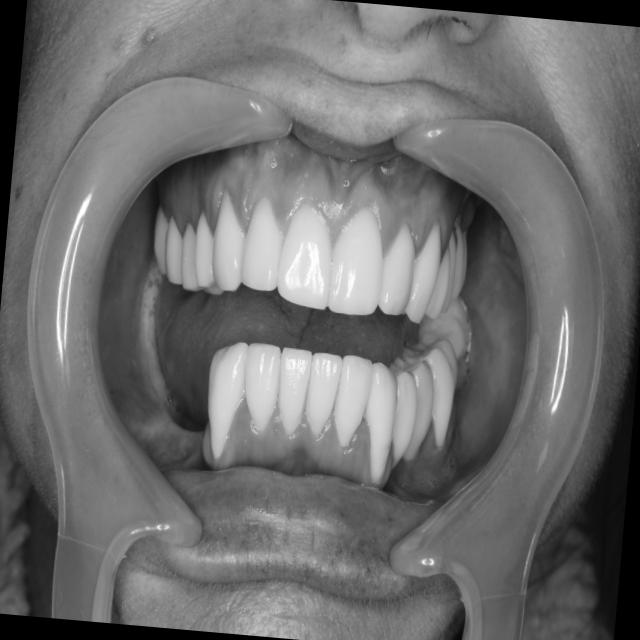tooth: (390, 331, 463, 453), (324, 194, 391, 322), (273, 191, 337, 317), (198, 330, 250, 464), (380, 352, 439, 470), (357, 353, 404, 489), (231, 191, 287, 298), (201, 184, 251, 293), (403, 208, 447, 331), (328, 346, 377, 453), (413, 286, 477, 366), (380, 364, 423, 478), (376, 213, 421, 319), (301, 338, 345, 444), (238, 333, 283, 435), (272, 336, 315, 438), (188, 208, 224, 294), (172, 214, 207, 295), (423, 235, 455, 323), (143, 196, 175, 282), (158, 210, 191, 289), (437, 225, 460, 318), (445, 221, 468, 305), (456, 226, 472, 294)
